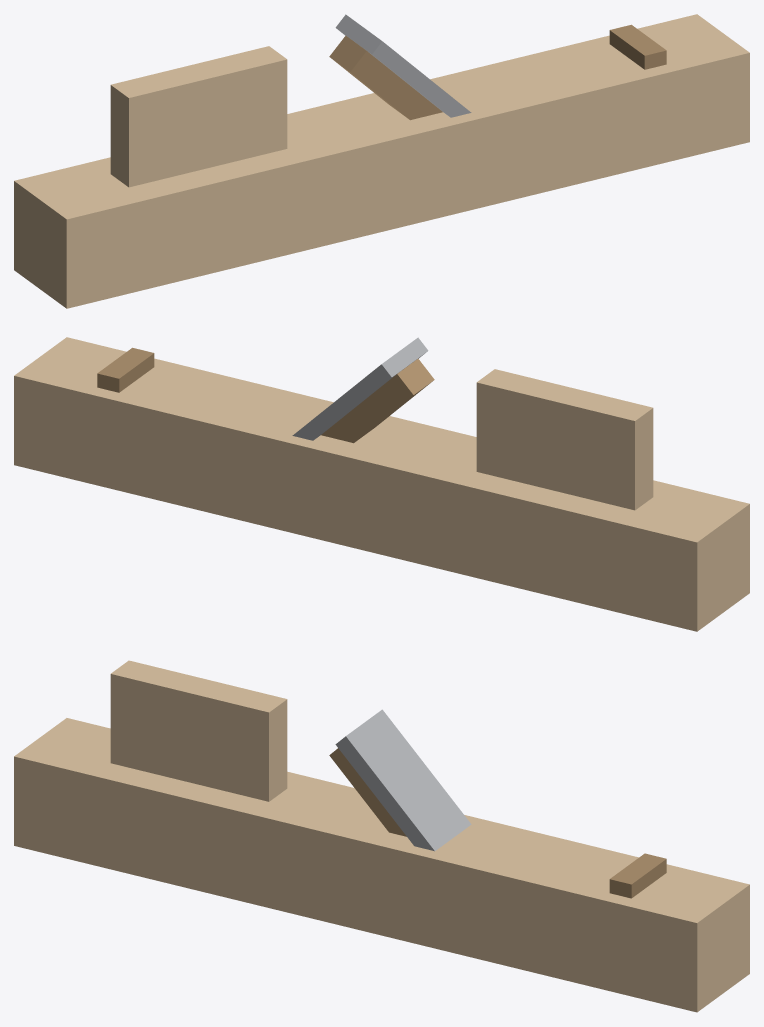
The model's file is prop-try-plane-jn1.fbx.
3 renders of one model, top to bottom at view 1: azimuth 30°, elevation 25°; view 2: azimuth 150°, elevation 25°; view 3: azimuth 330°, elevation 25°, orthographic.
Parts seen in each view (by area): view 1: prop-try-plane-jn1; view 2: prop-try-plane-jn1; view 3: prop-try-plane-jn1.
Boxes of the visible parts, x1,y1,x2,y2 form: prop-try-plane-jn1: (14,14,749,308); prop-try-plane-jn1: (14,337,749,631); prop-try-plane-jn1: (14,660,749,1012).
Size of the model in its own units: 56 by 14.31 by 7.5.
